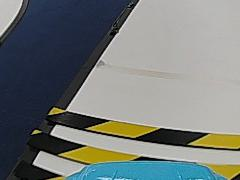bump: (24, 109, 240, 167)
